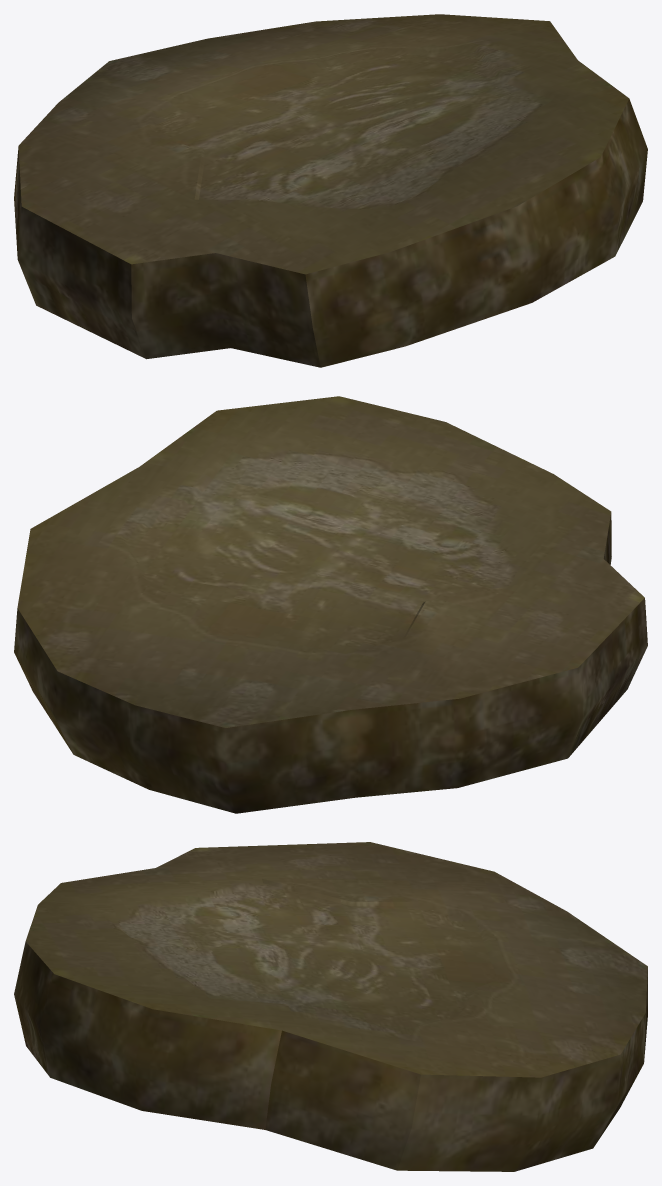
File: Pickle2.fbx
3 views of the same model, one above another, from view 1: azimuth 30°, elevation 25°; view 2: azimuth 150°, elevation 25°; view 3: azimuth 270°, elevation 25° (orthographic). The views are drawn at different scales.
Parts seen in each view (by area): view 1: pickle_1_3; view 2: pickle_1_3; view 3: pickle_1_3.
Boxes of the visible parts, bbox=[...] form: pickle_1_3: bbox=[14, 14, 647, 367]; pickle_1_3: bbox=[14, 396, 647, 813]; pickle_1_3: bbox=[14, 842, 647, 1171].
Size of the model in its own units: 2.24 by 0.6944 by 2.23.
